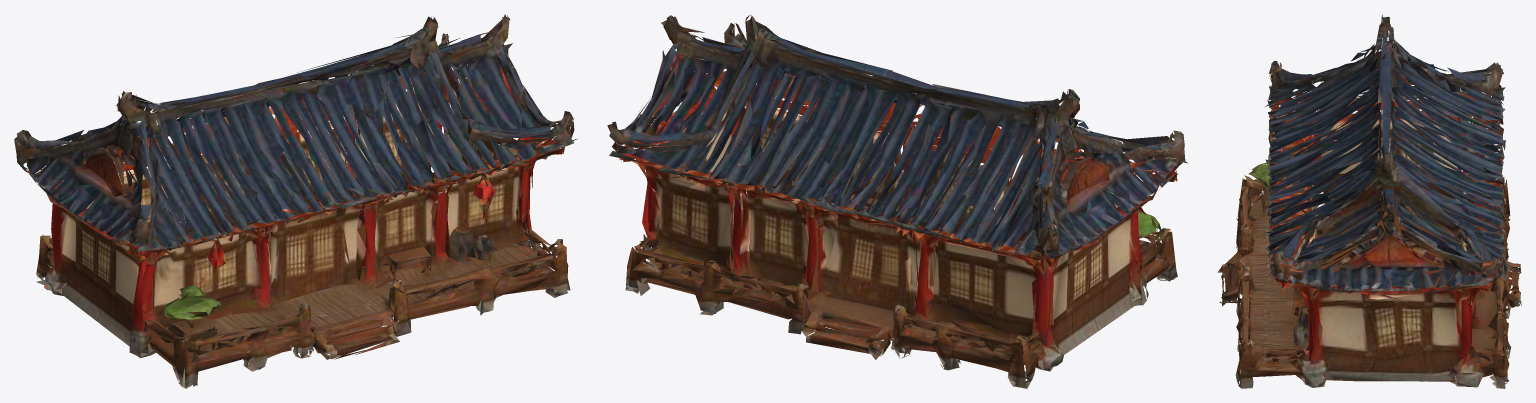
The model's file is casa_m_lod1.glb.
3 renders of one model, left to right at view 1: azimuth 30°, elevation 25°; view 2: azimuth 150°, elevation 25°; view 3: azimuth 270°, elevation 25°, orthographic. The views are drawn at different scales.
Visible parts, largest first — view 1: casa_m; view 2: casa_m; view 3: casa_m.
Boxes of the visible parts, x1,y1,x2,y2 form: casa_m: [14, 14, 577, 388]; casa_m: [607, 14, 1187, 388]; casa_m: [1217, 14, 1521, 388].
Bounding box in the file's own units: 9.91 × 5.03 × 6.43.
1 material, 1 textured.
